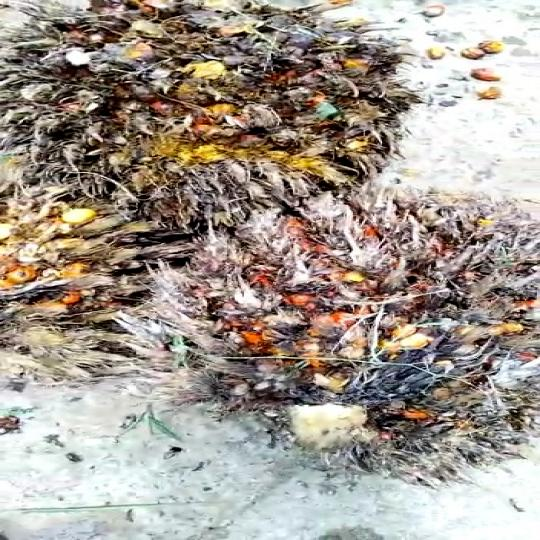terlalu masak: (92, 188, 540, 475), (0, 3, 428, 227)
